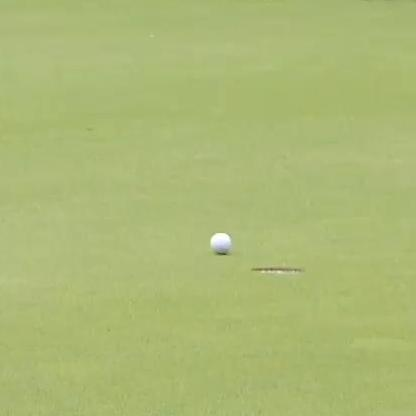golfball: (207, 229, 230, 254)
